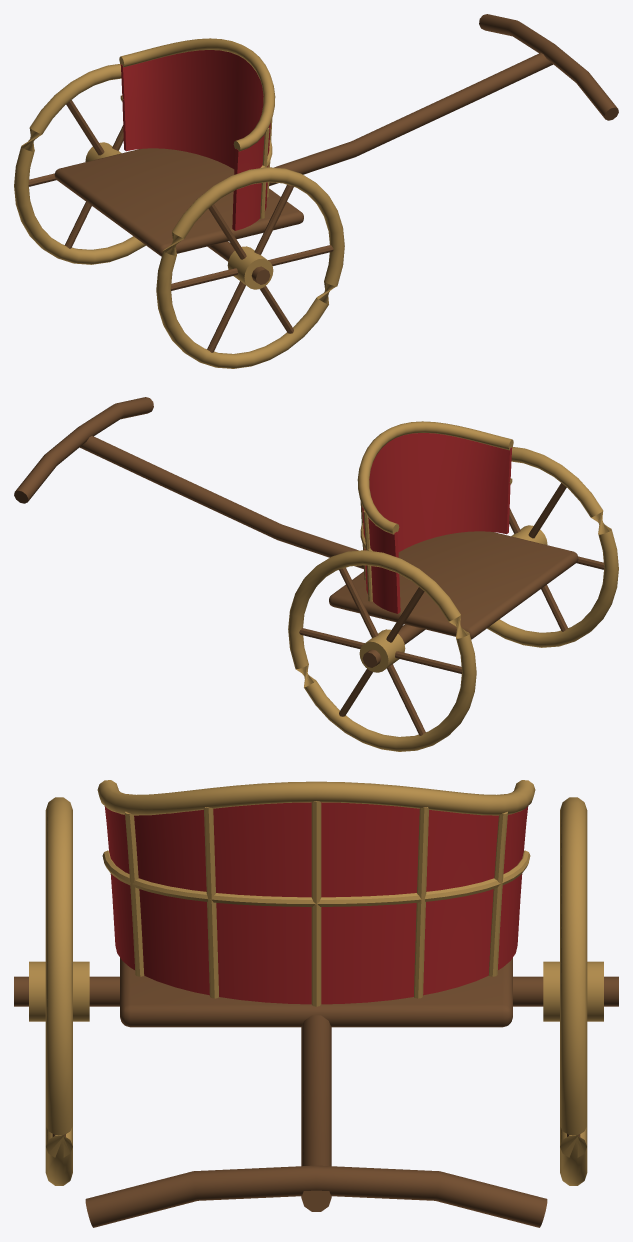
File: arava_yunon.glb
3 views of the same model, one above another, from view 1: azimuth 30°, elevation 25°; view 2: azimuth 150°, elevation 25°; view 3: azimuth 270°, elevation 25° (orthographic). The views are drawn at different scales.
Visible parts, largest first — view 1: Body, WheelR, WheelL; view 2: Body, WheelL, WheelR; view 3: Body, WheelL, WheelR.
Boxes of the visible parts, x1,y1,x2,y2 form: Body: [54, 14, 618, 284]; WheelR: [156, 167, 344, 368]; WheelL: [14, 64, 145, 264]; Body: [14, 397, 578, 667]; WheelL: [288, 550, 476, 751]; WheelR: [487, 447, 618, 647]; Body: [14, 780, 618, 1227]; WheelL: [543, 797, 603, 1185]; WheelR: [29, 797, 89, 1185].
Size of the model in its own units: 3.25 by 1.63 by 2.
